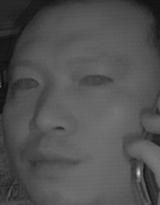eye: (78, 69, 112, 89), (12, 73, 42, 93)
mouth: (25, 141, 86, 178)
